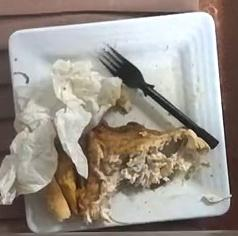chicken: (87, 121, 207, 192)
unknown: (44, 152, 87, 221)
